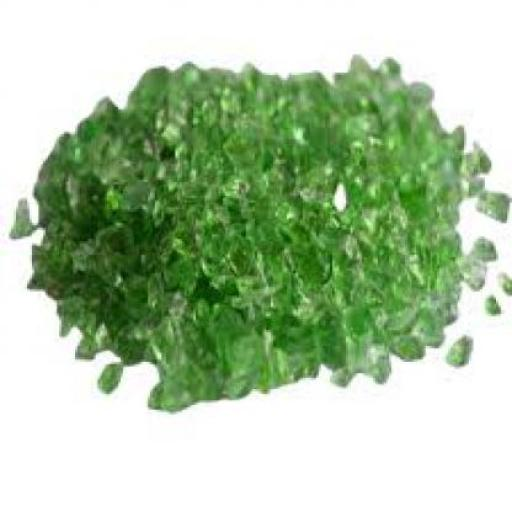glass: (141, 88, 305, 212), (182, 210, 292, 376), (57, 212, 214, 321), (292, 180, 405, 325), (234, 118, 328, 257), (71, 125, 191, 216), (292, 93, 407, 186), (403, 152, 457, 292), (84, 305, 216, 362), (257, 305, 383, 362), (382, 114, 441, 232), (292, 282, 448, 324), (62, 168, 126, 223), (228, 327, 282, 389), (145, 362, 198, 407), (188, 362, 258, 394), (127, 64, 167, 116), (32, 174, 75, 216), (348, 336, 386, 380), (409, 303, 441, 351), (5, 196, 48, 228), (166, 57, 198, 96), (27, 236, 59, 274), (414, 109, 446, 146), (468, 186, 510, 212), (451, 255, 487, 284), (52, 296, 80, 332), (328, 66, 370, 89), (460, 141, 492, 170), (389, 330, 421, 359), (278, 351, 312, 378), (95, 360, 119, 396), (464, 234, 501, 257), (435, 282, 457, 320), (23, 262, 55, 288), (82, 95, 116, 119), (202, 66, 230, 95), (39, 146, 68, 173), (68, 330, 98, 356), (403, 80, 433, 106), (446, 335, 473, 362), (453, 174, 485, 196), (480, 289, 501, 321), (291, 68, 323, 87), (446, 125, 462, 162), (264, 68, 290, 90), (50, 128, 78, 148), (370, 54, 396, 75), (30, 161, 56, 182), (344, 48, 370, 68), (239, 58, 259, 84), (113, 105, 139, 123), (75, 116, 94, 136), (496, 269, 510, 296), (332, 362, 354, 378)
